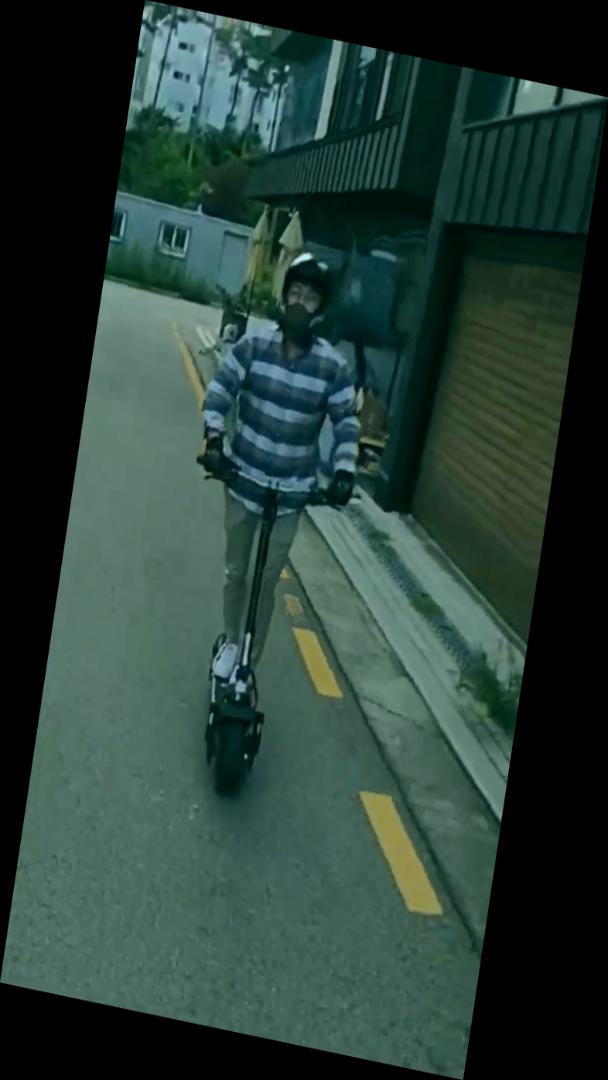helmet: (142, 232, 391, 817)
